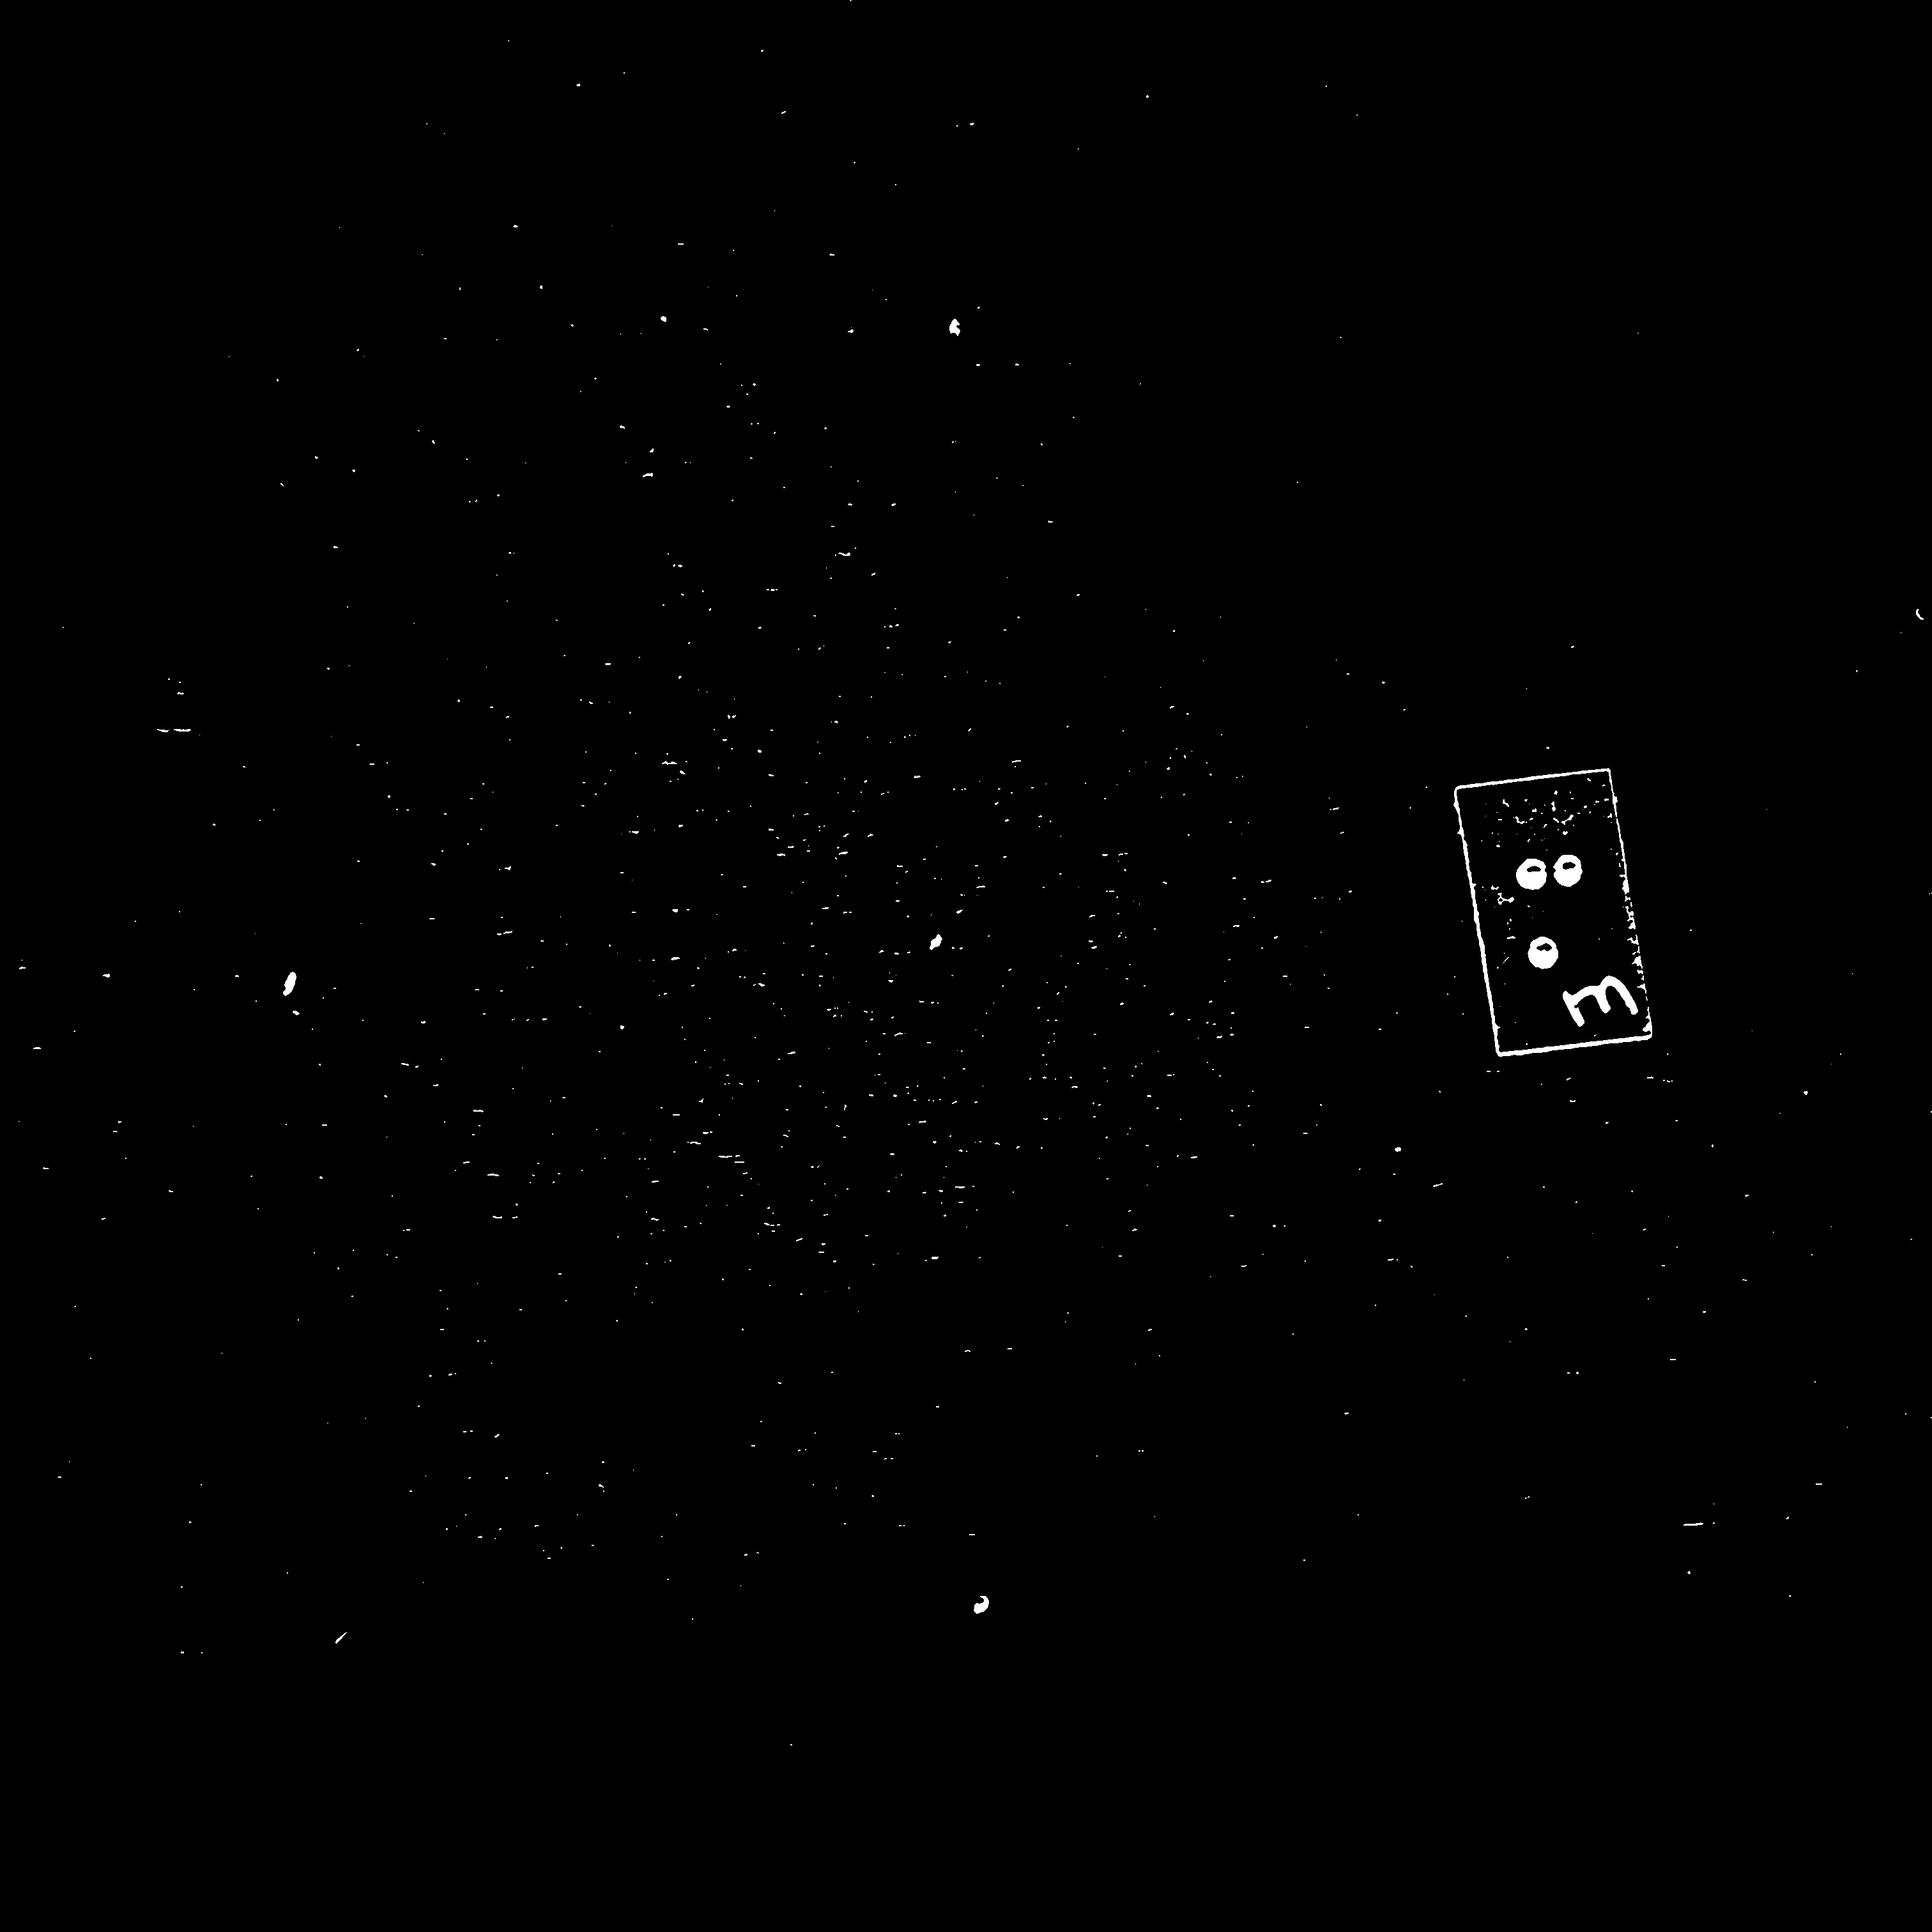m: (1503, 843, 1607, 982)
